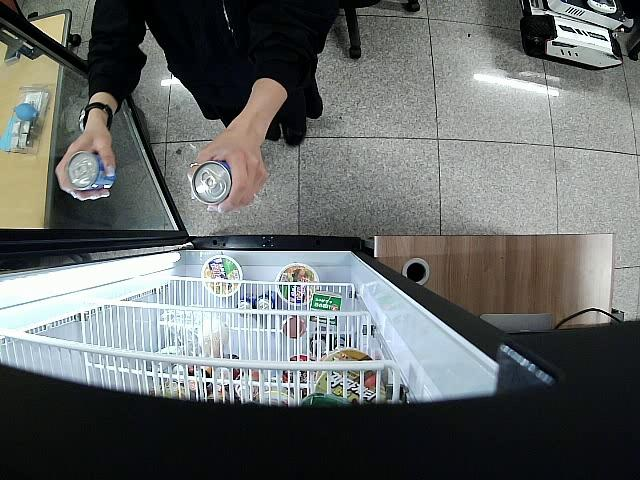00_hand: (184, 114, 271, 214), (53, 124, 118, 201)
15_letsbe: (189, 159, 234, 206), (65, 149, 116, 189)
